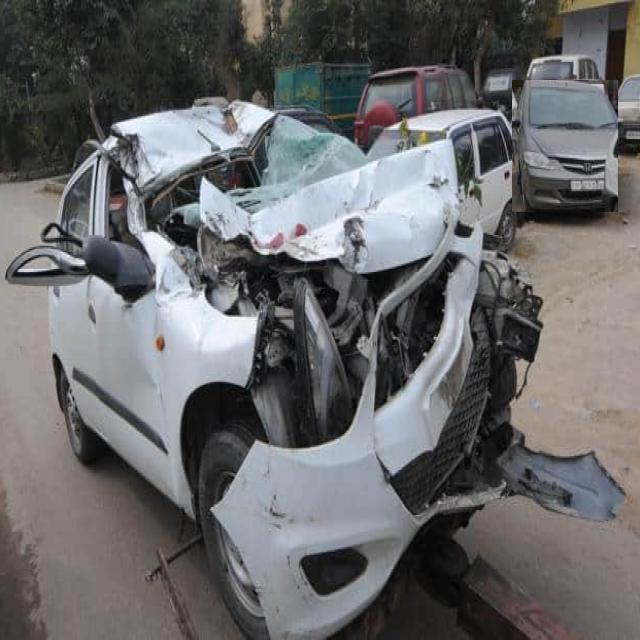accident: (8, 101, 622, 637)
car: (368, 109, 525, 247), (512, 80, 618, 212)
